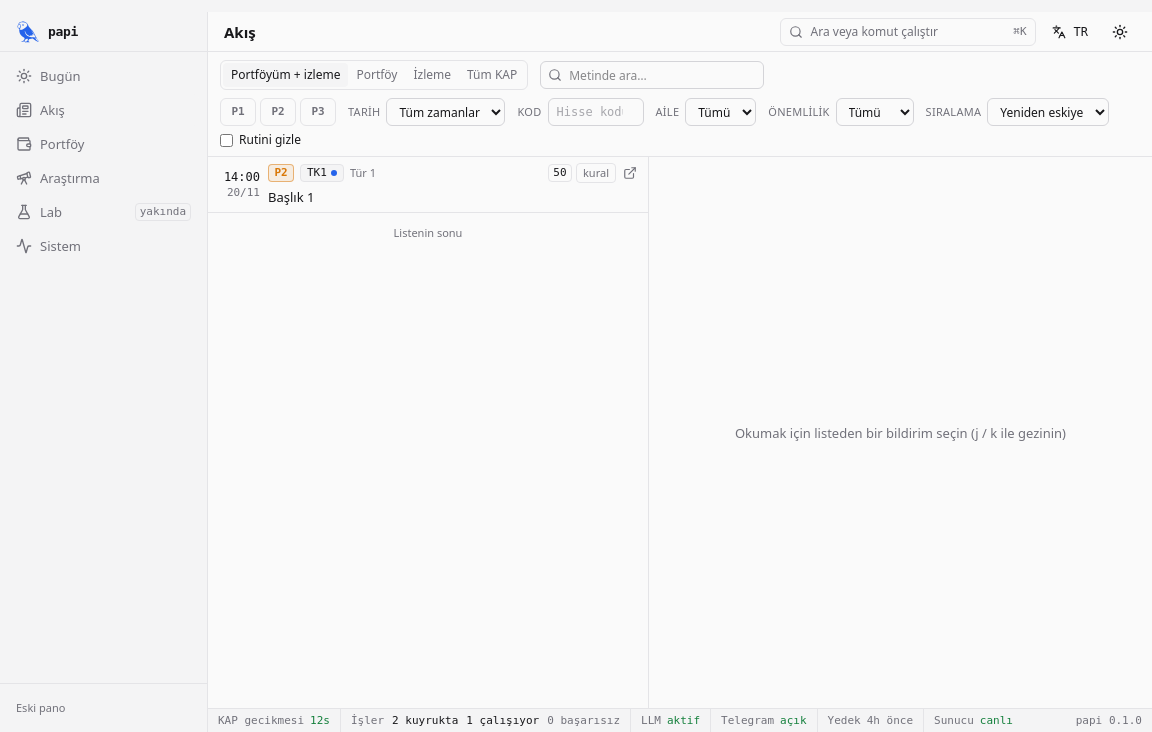
feed › selecting a row opens /feed/$id with the detail sections
Step 1. Click the text "Başlık 1" → x=291, y=196, box left=268, top=188, right=314, bottom=206
(page scrolled)
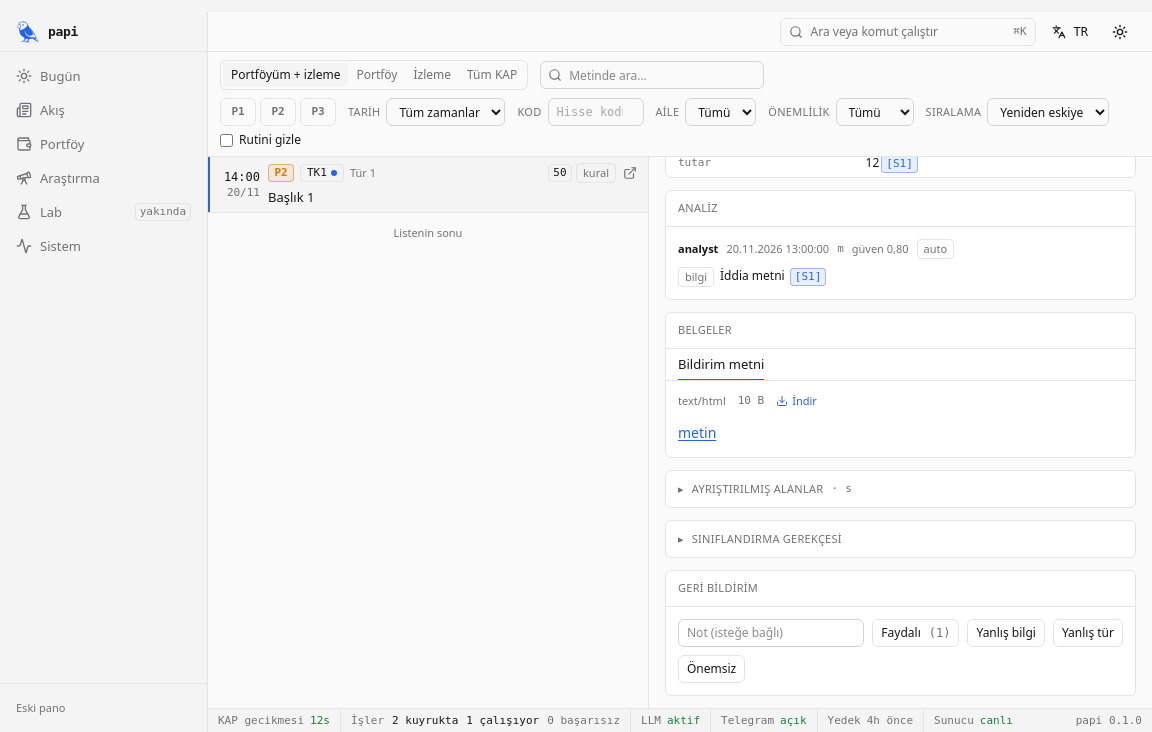
Check: the element "Analiz" is shown, box left=665, top=190, right=1136, bottom=300
Check: the element "Belgeler" is shown, box left=665, top=312, right=1136, bottom=458
Check: the link "metin" is shown, box left=678, top=423, right=716, bottom=442
